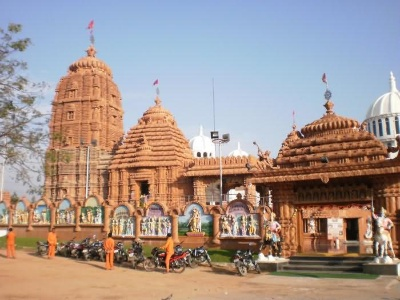amalaka: (294, 108, 368, 138), (58, 48, 118, 76), (131, 97, 184, 126)
gopuram: (37, 69, 132, 173)
mandapa: (184, 158, 269, 220)
